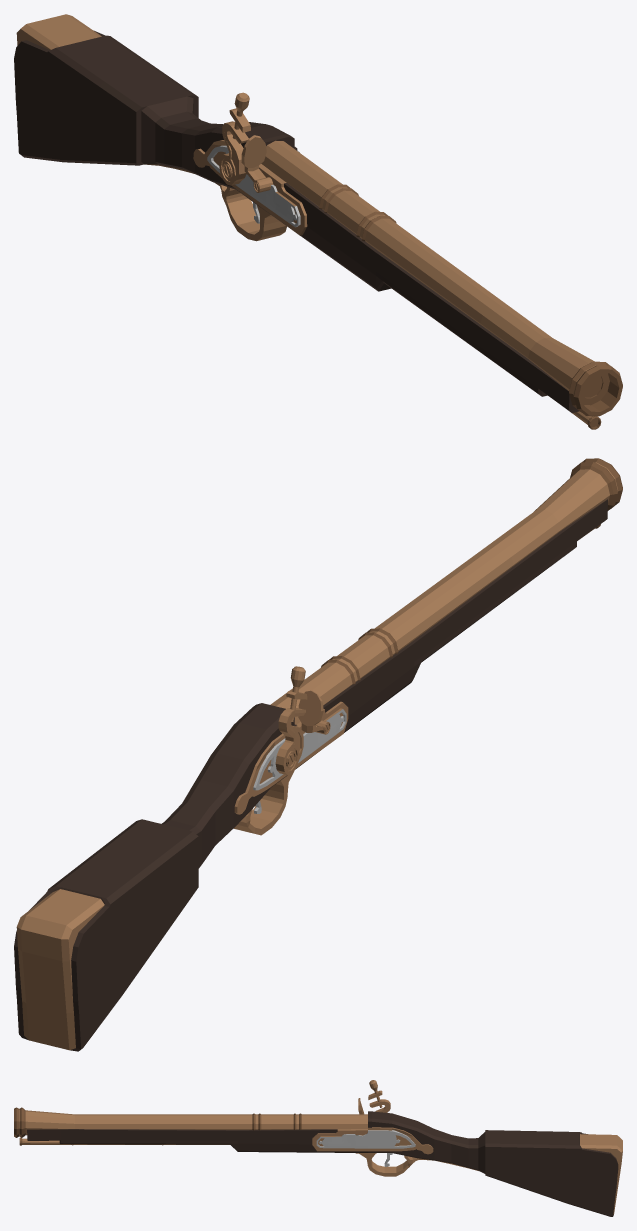
The model's file is LPC_STP_Blunderbuss_(srasmussen).fbx.
3 views of the same model, one above another, from view 1: azimuth 30°, elevation 25°; view 2: azimuth 150°, elevation 25°; view 3: azimuth 270°, elevation 25° (orthographic). The views are drawn at different scales.
Parts seen in each view (by area): view 1: STP_Blunderbuss; view 2: STP_Blunderbuss; view 3: STP_Blunderbuss.
Part boxes in pixels (box(x1,y1,x2,y2)): STP_Blunderbuss: box(14, 14, 622, 429); STP_Blunderbuss: box(14, 458, 622, 1051); STP_Blunderbuss: box(14, 1080, 622, 1216).
Bounding box in the file's own units: 20.2 × 60.85 × 276.
2 materials, 2 textured.
